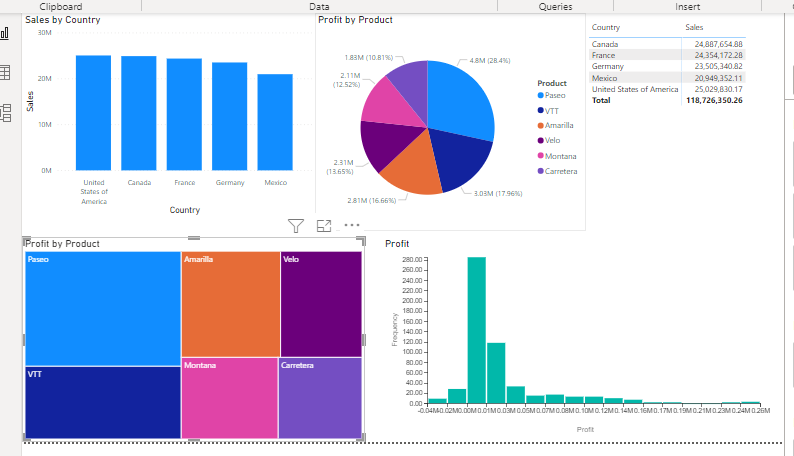

This screenshot's page, from the dashboard's own definition file:
{"tool":"powerbi","page":{"name":"Page 1","canvas":[1280,720],"ordinal":0},"visuals":[{"type":"clusteredColumnChart","fields":{"Y":["Sum(financials. Sales)"],"Category":["financials.Country"]},"box":[0,0,492.2,344.4],"z":0},{"type":"pieChart","fields":{"Y":["Sum(financials.Profit)"],"Category":["financials.Product"]},"box":[492.2,0,455.2,366.2],"z":1000},{"type":"treemap","fields":{"Values":["Sum(financials.Profit)"],"Group":["financials.Product"]},"box":[0,376.3,576.2,344.4],"z":2000},{"type":"pivotTable","fields":{"Rows":["financials.Country"],"Values":["Sum(financials. Sales)"]},"box":[947.4,8.4,332.6,329.2],"z":3000},{"type":"Histogram1445664487616","fields":{"Values":["financials.Profit"]},"box":[604.7,376.3,675.3,344.4],"z":4000}]}

Visuals, with their boxes on the page's 1280x720 design canvas (x1, y1, x2, y2). These are canvas units, not pixel positions in the 794x456 screenshot, which may show the page scaled, cropped or inside an application window:
clusteredColumnChart - Sum(financials. Sales) x financials.Country: rect(0, 0, 492, 344)
pieChart - Sum(financials.Profit) x financials.Product: rect(492, 0, 947, 366)
treemap - Sum(financials.Profit) x financials.Product: rect(0, 376, 576, 721)
pivotTable - financials.Country x Sum(financials. Sales): rect(947, 8, 1280, 338)
Histogram1445664487616 - financials.Profit: rect(605, 376, 1280, 721)
